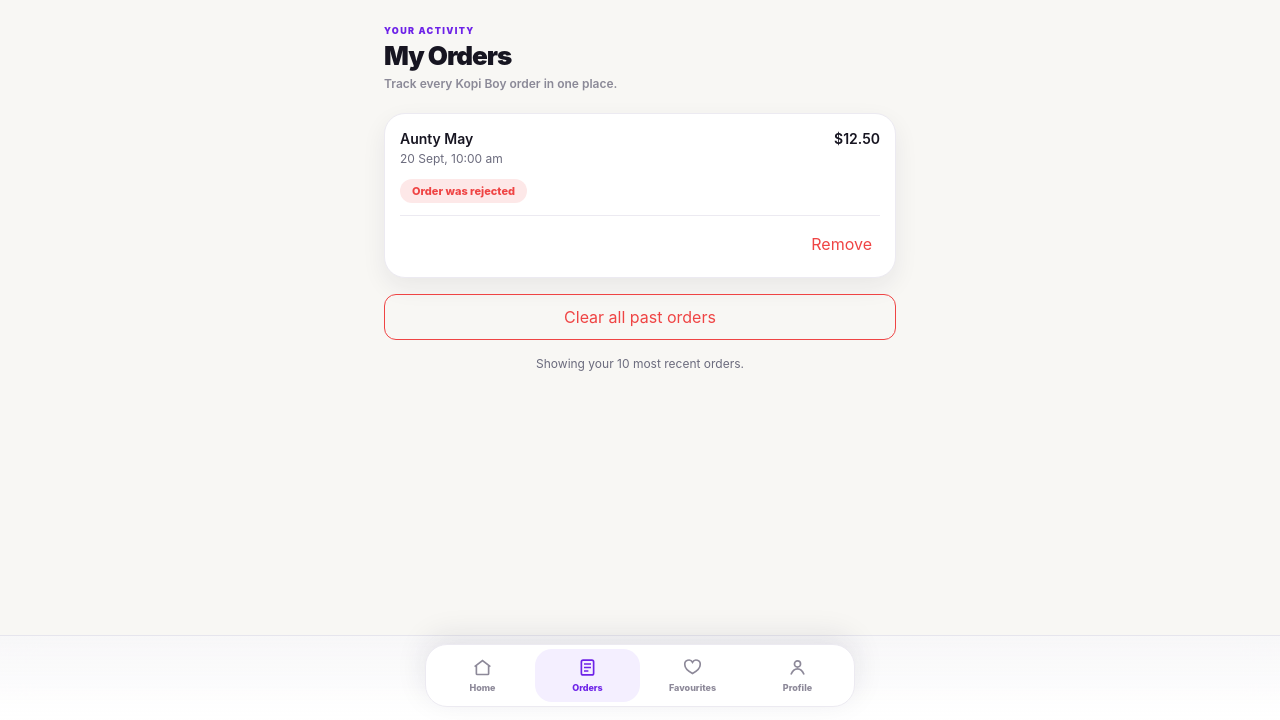
it: /orders — removing past orders › shows the action's message when removing isn't possible (e.g. SQL not run yet)
Click the button with test id "remove-order" at [842, 244], box top-left (803, 226), bottom-right (880, 262)
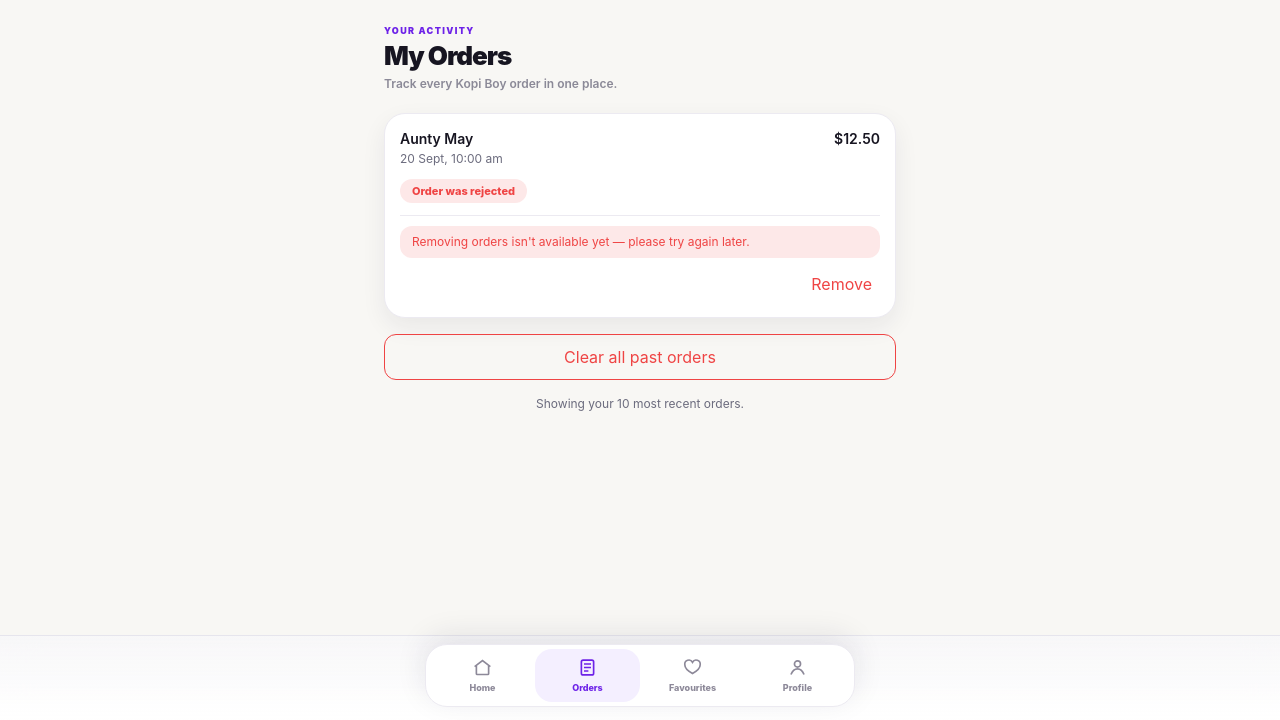
Expected: the message shows "isn't available yet", top-left (412, 234), bottom-right (750, 249)
